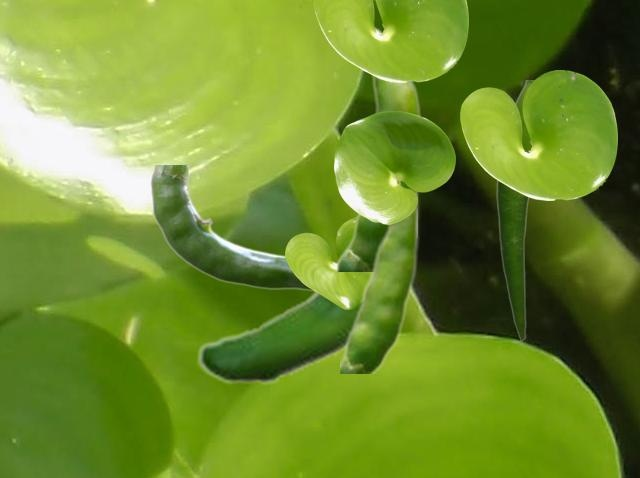green_chili: (196, 207, 356, 385), (150, 165, 335, 290), (333, 24, 423, 270), (340, 182, 419, 372), (496, 80, 532, 340)
